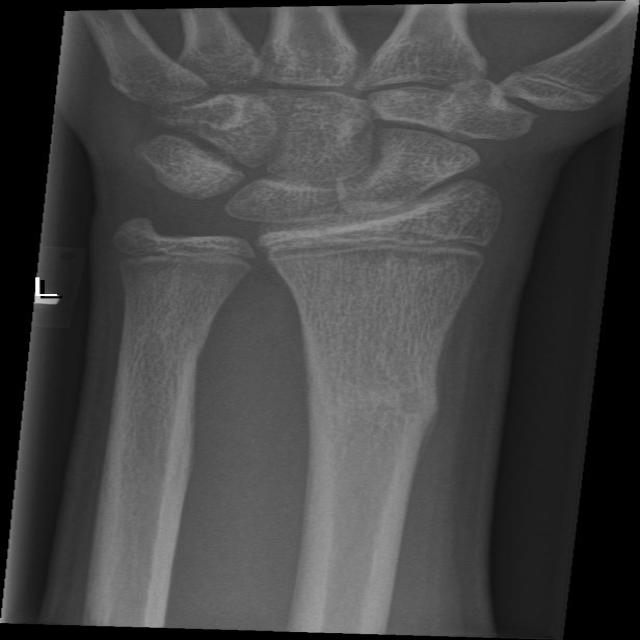fracture: (242, 221, 515, 274), (99, 226, 288, 278)
